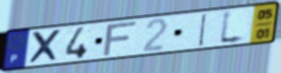2: (140, 17, 170, 54)
4: (63, 26, 90, 60)
F: (100, 19, 140, 58)
I: (196, 12, 209, 48)
L: (217, 8, 248, 47)
X: (27, 28, 64, 66)
